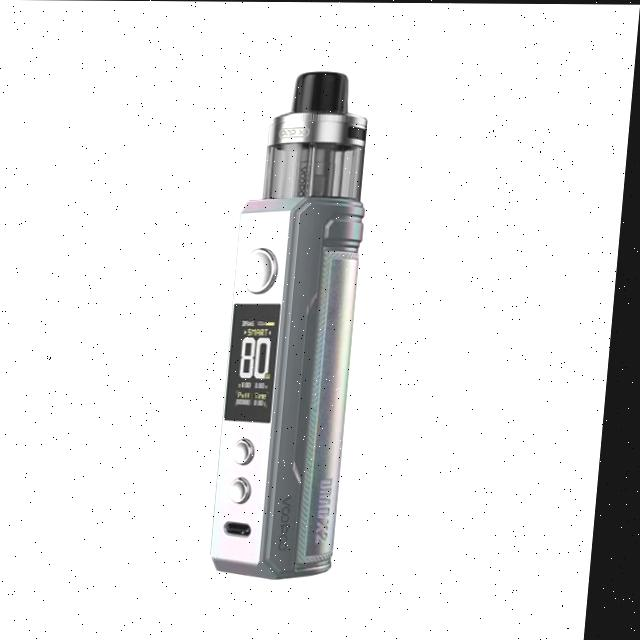vape: (217, 69, 380, 580)
